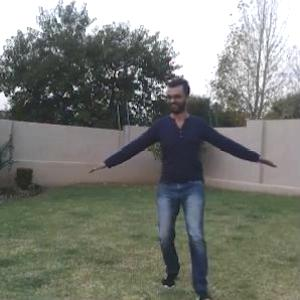land: (89, 65, 299, 300)
